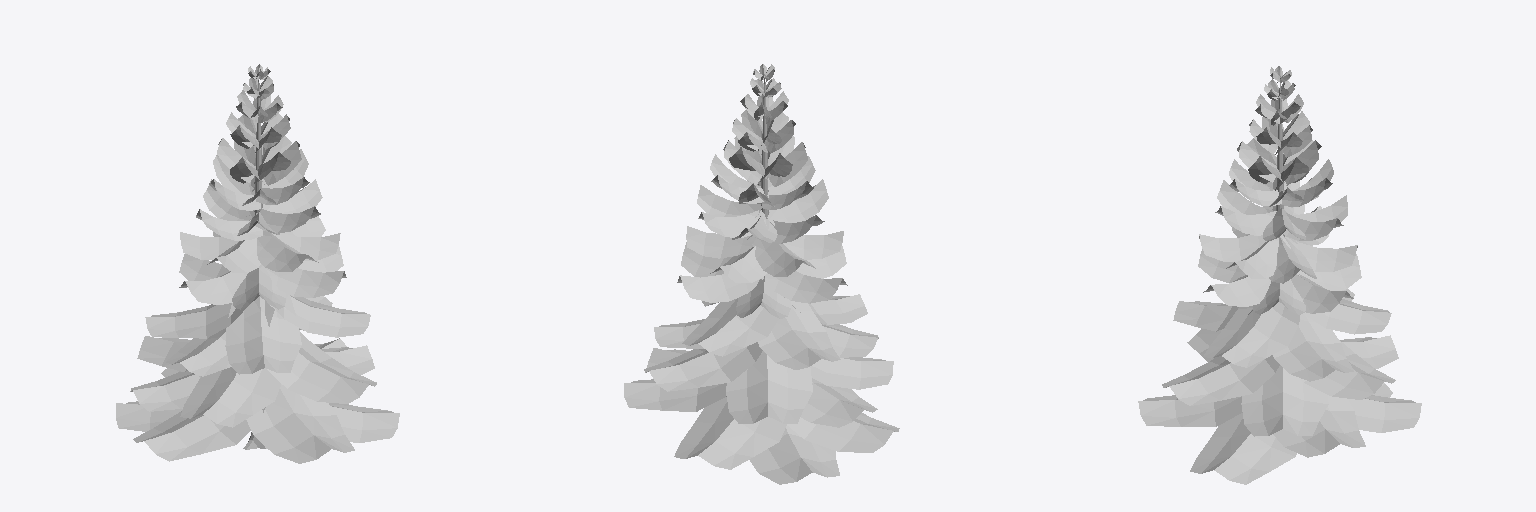
File: tree.obj
The picture shows the model from 3 angles: view 1: azimuth 30°, elevation 25°; view 2: azimuth 150°, elevation 25°; view 3: azimuth 270°, elevation 25°; orthographic projection.
Visible parts, largest first — view 1: pineFBXASC046001; view 2: pineFBXASC046001; view 3: pineFBXASC046001.
Boxes of the visible parts, x1=… form: pineFBXASC046001: x1=116, y1=64, x2=399, y2=463; pineFBXASC046001: x1=624, y1=64, x2=899, y2=484; pineFBXASC046001: x1=1138, y1=66, x2=1421, y2=484.
Size of the model in its own units: 1.23 by 1.88 by 1.27.